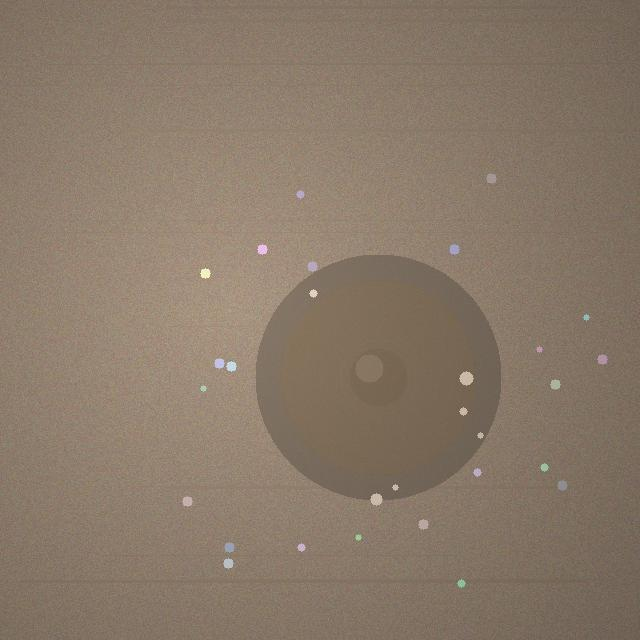overburn: (255, 254, 501, 500)
